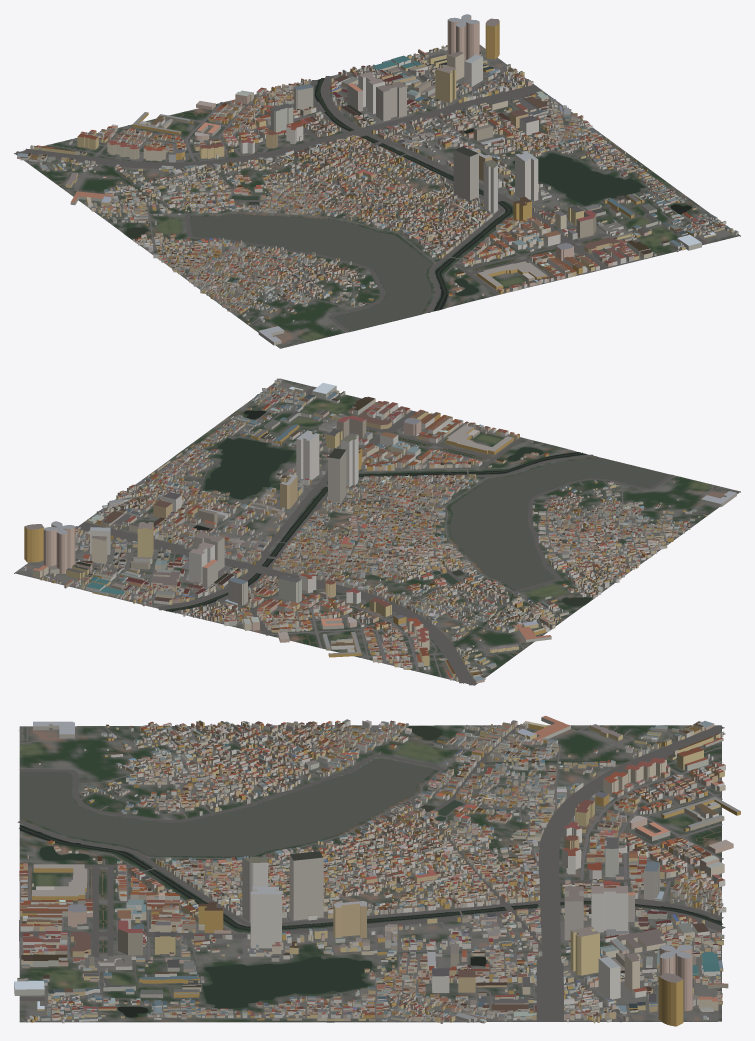
3 views of the same model, one above another, from view 1: azimuth 30°, elevation 25°; view 2: azimuth 150°, elevation 25°; view 3: azimuth 270°, elevation 25° (orthographic). The views are drawn at different scales.
Visible parts, largest first — view 1: walls, roofs, ground, water, roads; view 2: walls, roofs, ground, water, roads; view 3: walls, roofs, ground, water, roads.
Boxes of the visible parts, x1,y1,x2,y2 form: walls: (17, 17, 738, 345); roofs: (17, 14, 737, 341); ground: (14, 45, 740, 348); water: (104, 78, 691, 331); roads: (15, 46, 738, 347); walls: (21, 379, 736, 683); roofs: (22, 378, 736, 681); ground: (14, 379, 740, 685); water: (165, 410, 669, 646); roads: (18, 380, 739, 685); walls: (14, 717, 740, 1026); roofs: (14, 715, 739, 1020); ground: (19, 725, 721, 1022); water: (19, 725, 722, 1017); roads: (17, 724, 725, 1022).
Size of the model in its own units: 1452 by 137 by 1451.
